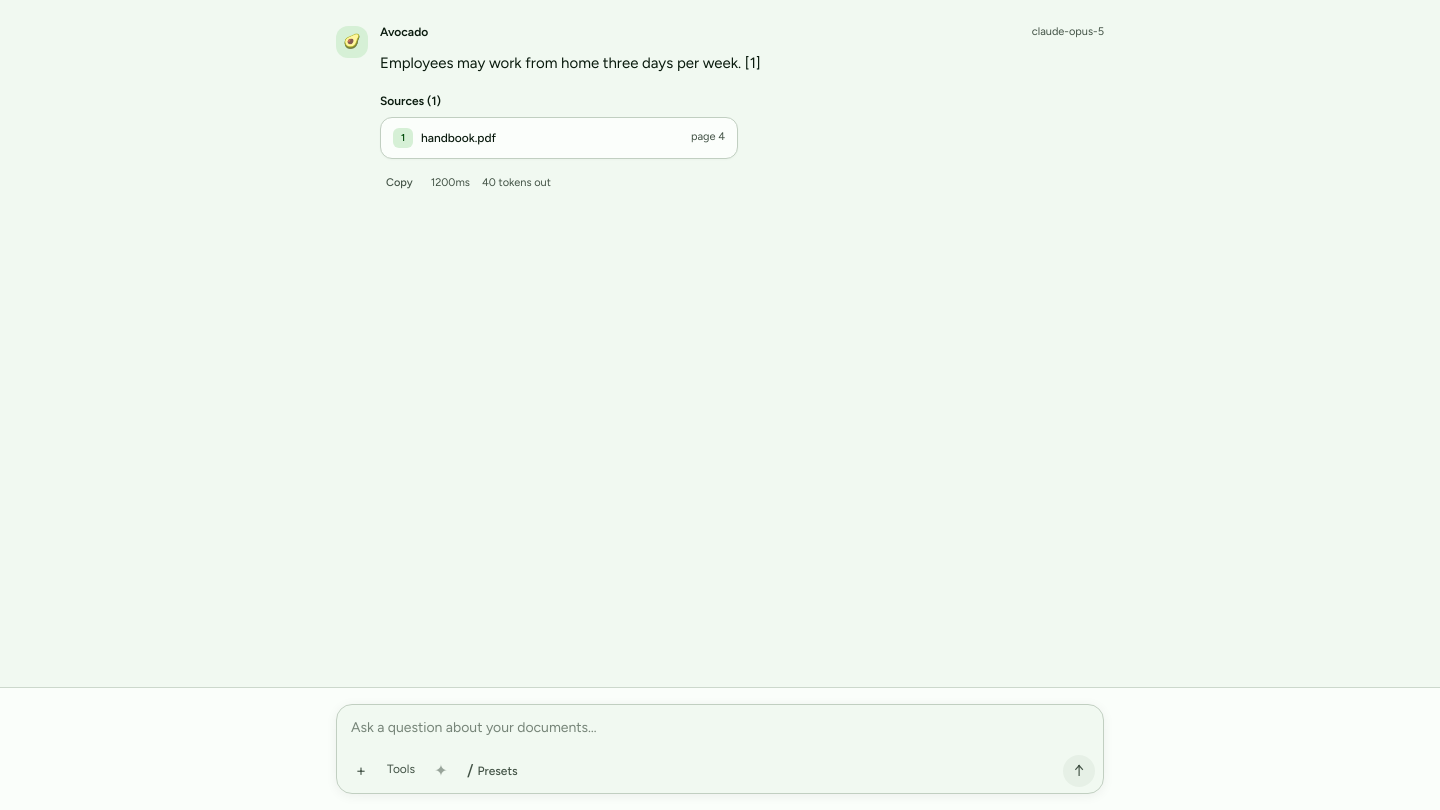
Test: ChatView › lists sources and reveals the snippet on demand
Expected: the text "Sources (1)" is shown, [380,94,441,108]
Expected: the text "handbook.pdf" is shown, [421,130,496,144]
Click the button "1 handbook.pdf page 4": [459, 138] box [380,116,738,158]
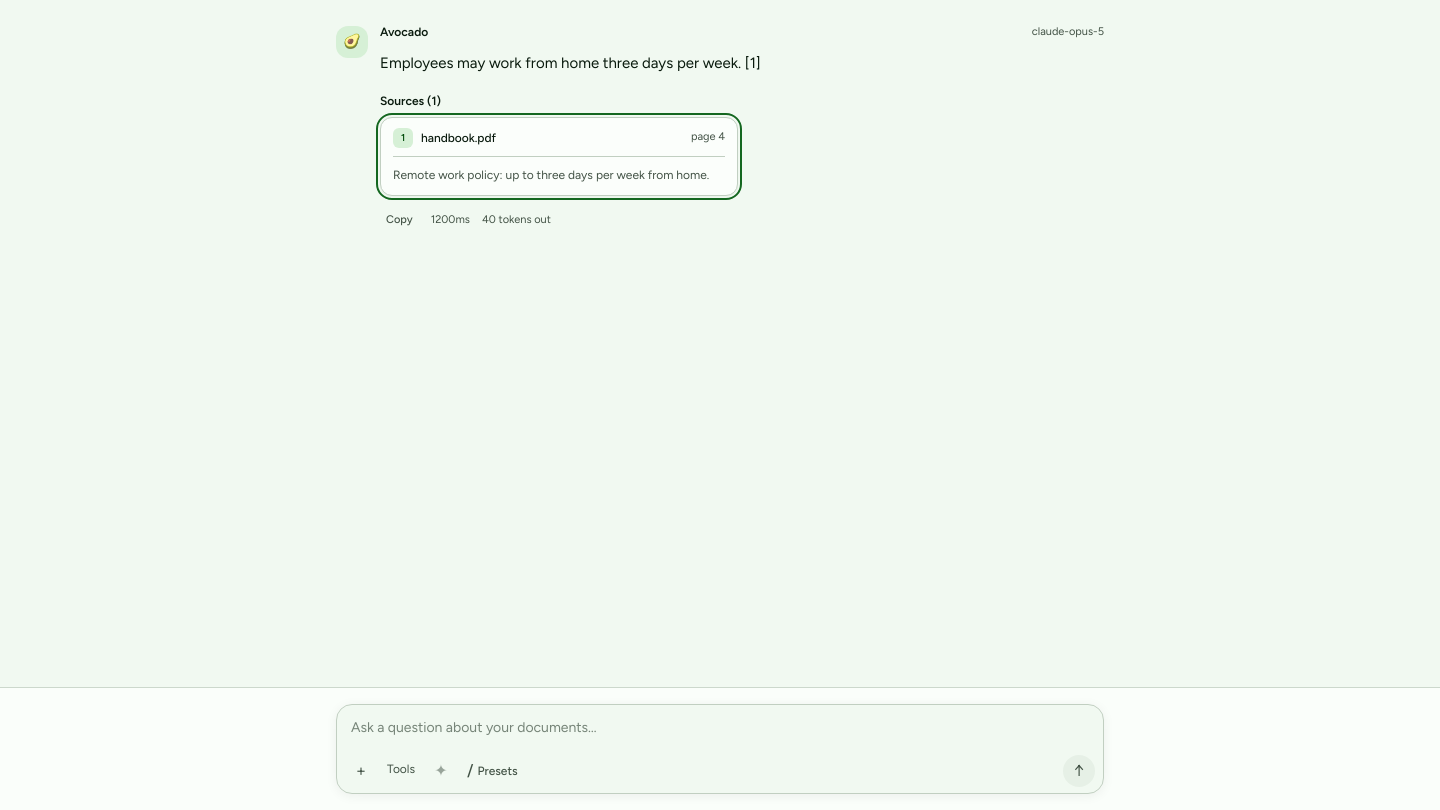
Expected: the text "Remote work policy: up to three days per week from home." is shown, [393,156,725,184]
